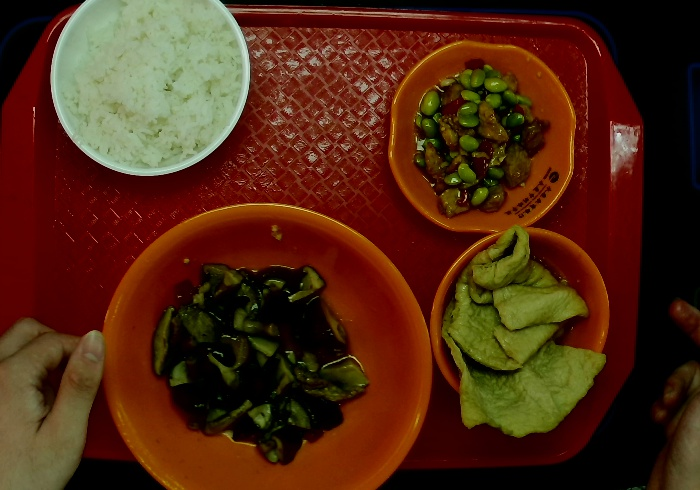YKMZ-Fan_Wan: (47, 1, 257, 182)
YKMZ-Ju_Se_Ao_Bian_Wan: (375, 34, 583, 242)
YKMZ-Ju_Se_Tang_Wan: (93, 197, 438, 490)
YKMZ-Ju_Se_Yuan_Wan: (423, 219, 623, 425)
